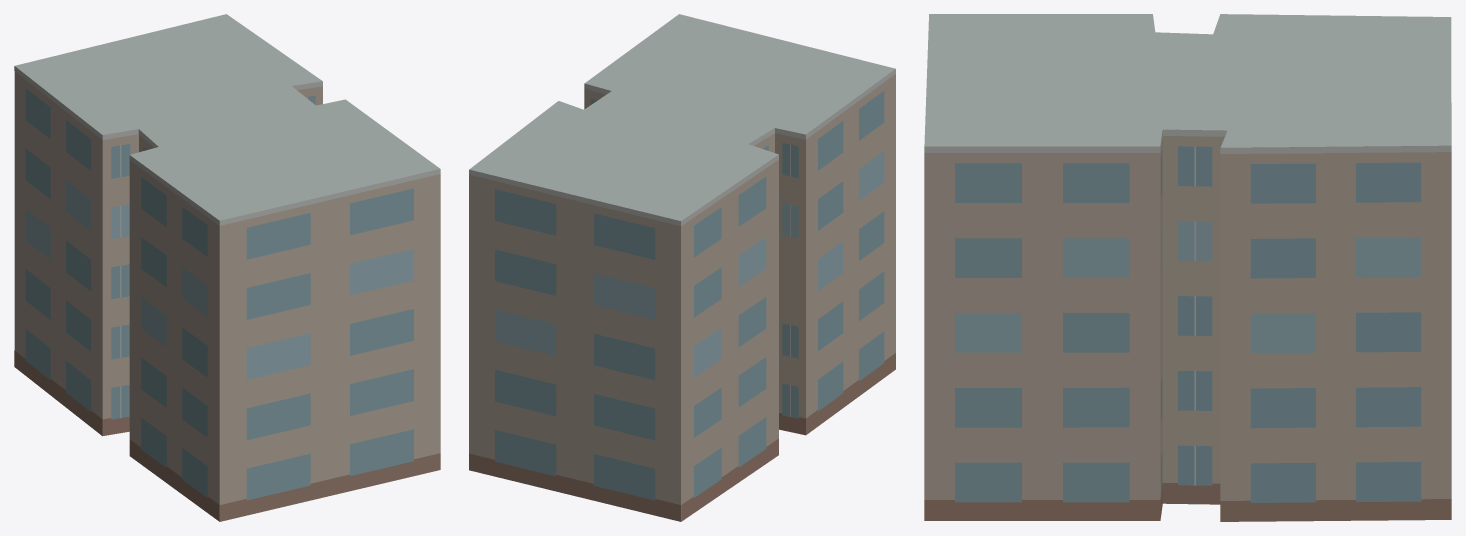
File: survey-upis-32501362.glb
3 renders of one model, left to right at view 1: azimuth 30°, elevation 25°; view 2: azimuth 150°, elevation 25°; view 3: azimuth 270°, elevation 25°, orthographic. The views are drawn at different scales.
Visible parts, largest first — view 1: survey-upis-32501362.tmp; view 2: survey-upis-32501362.tmp; view 3: survey-upis-32501362.tmp.
Boxes of the visible parts, box(x1,y1,x2,y2) form: survey-upis-32501362.tmp: box(14, 14, 440, 521); survey-upis-32501362.tmp: box(469, 14, 895, 521); survey-upis-32501362.tmp: box(924, 14, 1451, 521).
Bounding box in the file's own units: 11.05 × 14.4 × 18.4.
